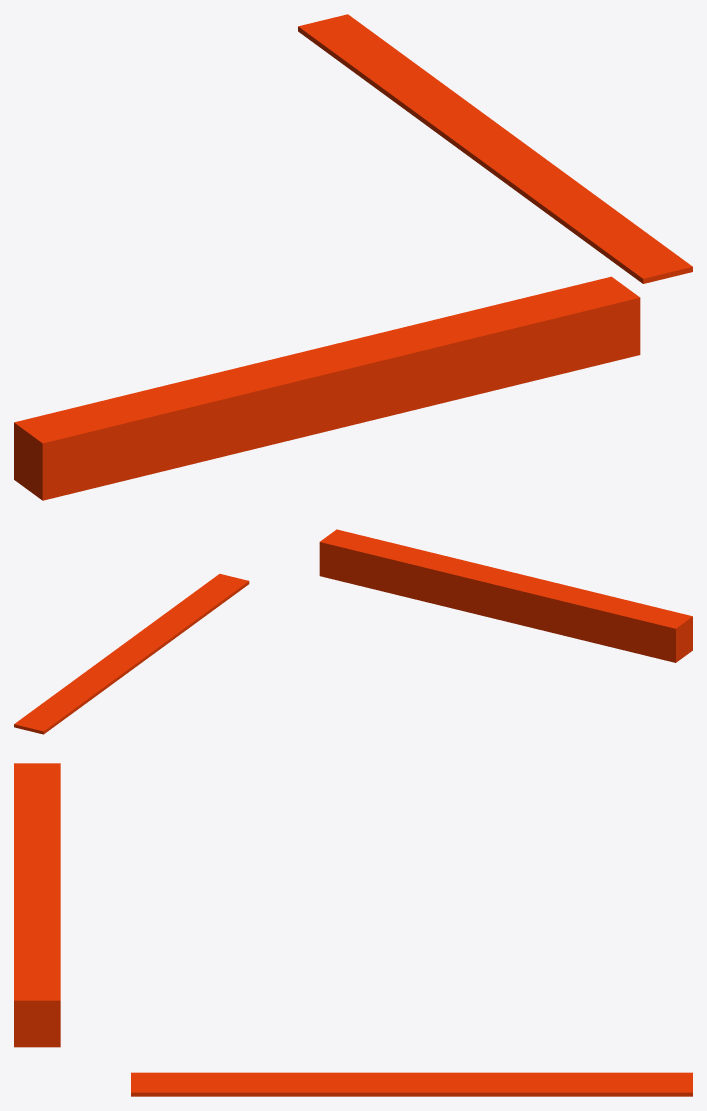
The model's file is twowheel_left_mark.dae.
The picture shows the model from 3 angles, top to bottom: view 1: azimuth 30°, elevation 25°; view 2: azimuth 150°, elevation 25°; view 3: azimuth 270°, elevation 25°; orthographic projection. The views are drawn at different scales.
Parts seen in each view (by area): view 1: SketchUp (×2); view 2: SketchUp (×2); view 3: SketchUp (×2).
Boxes of the visible parts, x1,y1,x2,y2 form: SketchUp (×2): (14,14,692,500); SketchUp (×2): (14,529,692,734); SketchUp (×2): (14,763,692,1096).
Bounding box in the file's own units: 0.5709 × 0.5709 × 0.0433.
